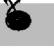not correct: (0, 0, 33, 32)
